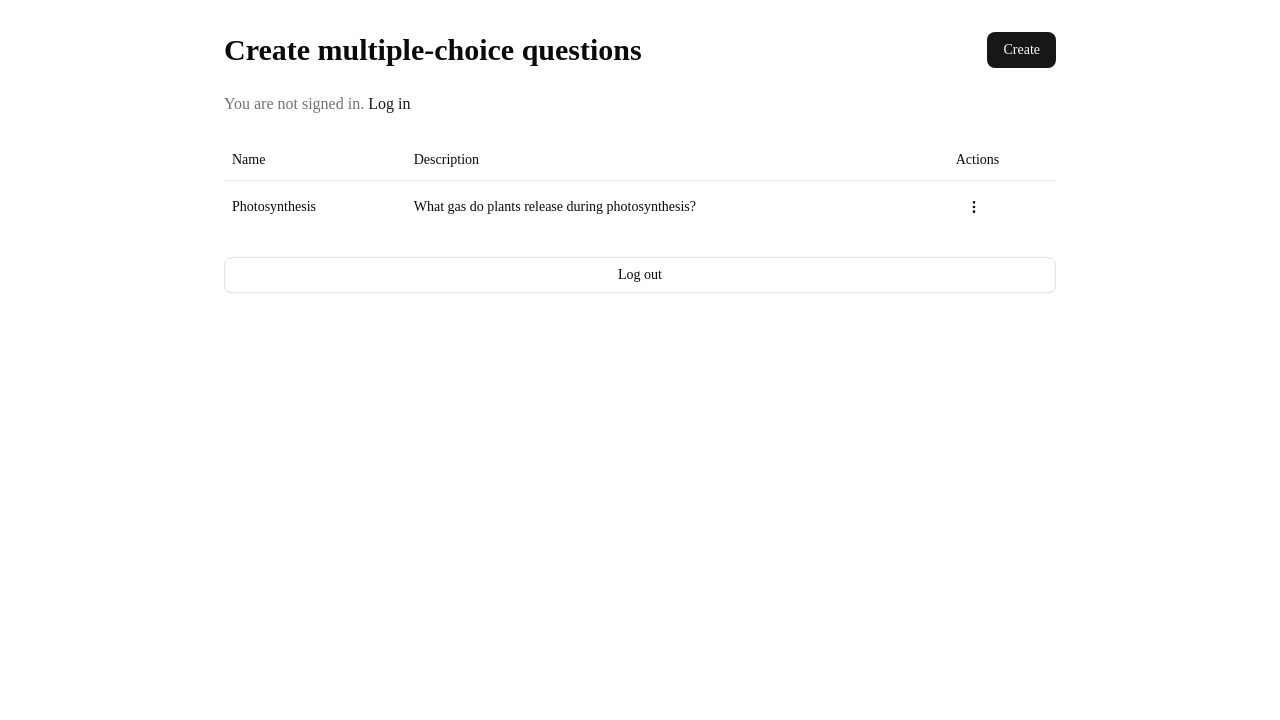
Test case: McqStub › confirming delete refreshes the list so the row is gone
Expected: the text "Photosynthesis" is shown, x1=224 y1=180 x2=406 y2=232
Click the button named "actions" at (974, 206), box x1=956 y1=188 x2=992 y2=224
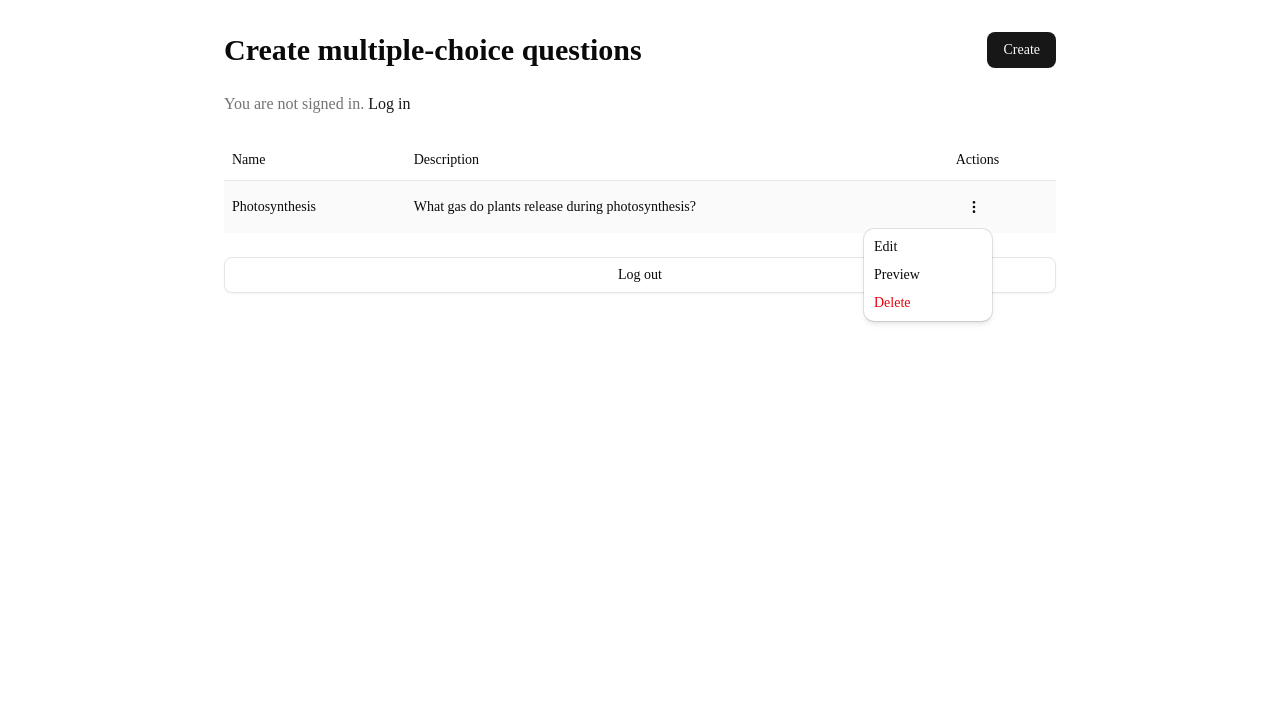
Click the menu item "Delete" at (892, 302), box x1=874 y1=295 x2=910 y2=310
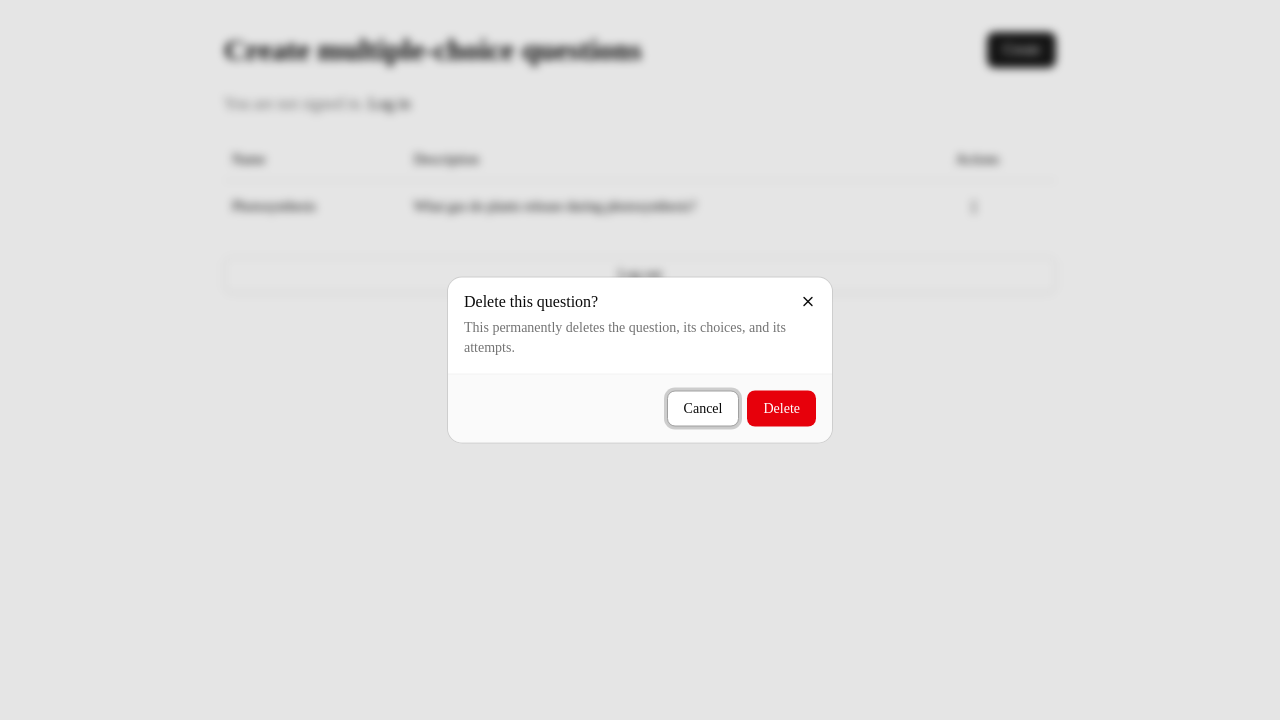
Click the button "Delete" at (782, 408), box x1=748 y1=390 x2=816 y2=426
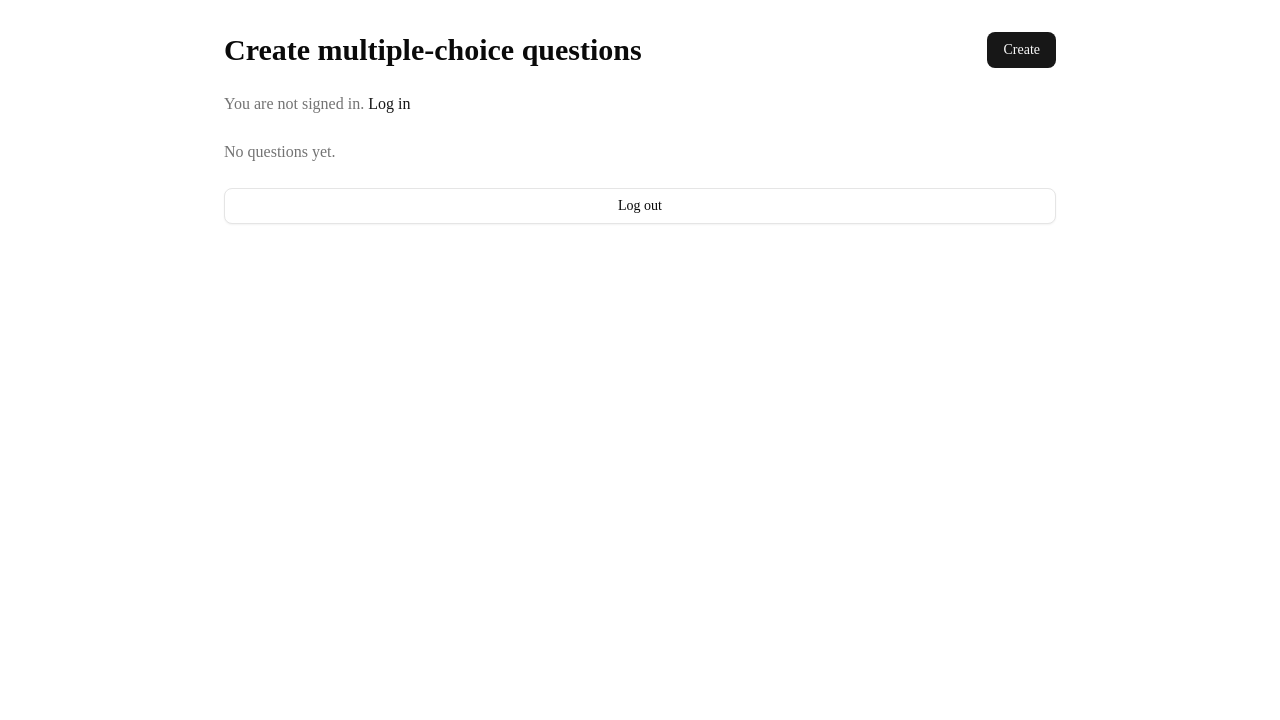
Expected: the text "Photosynthesis" is gone
